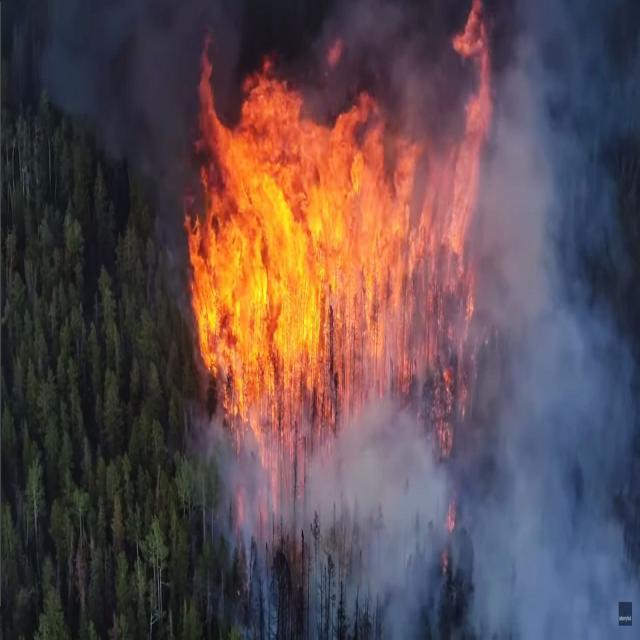Fire: (187, 5, 491, 376)
Smoke: (492, 4, 640, 640), (203, 398, 492, 640), (32, 5, 176, 184)
